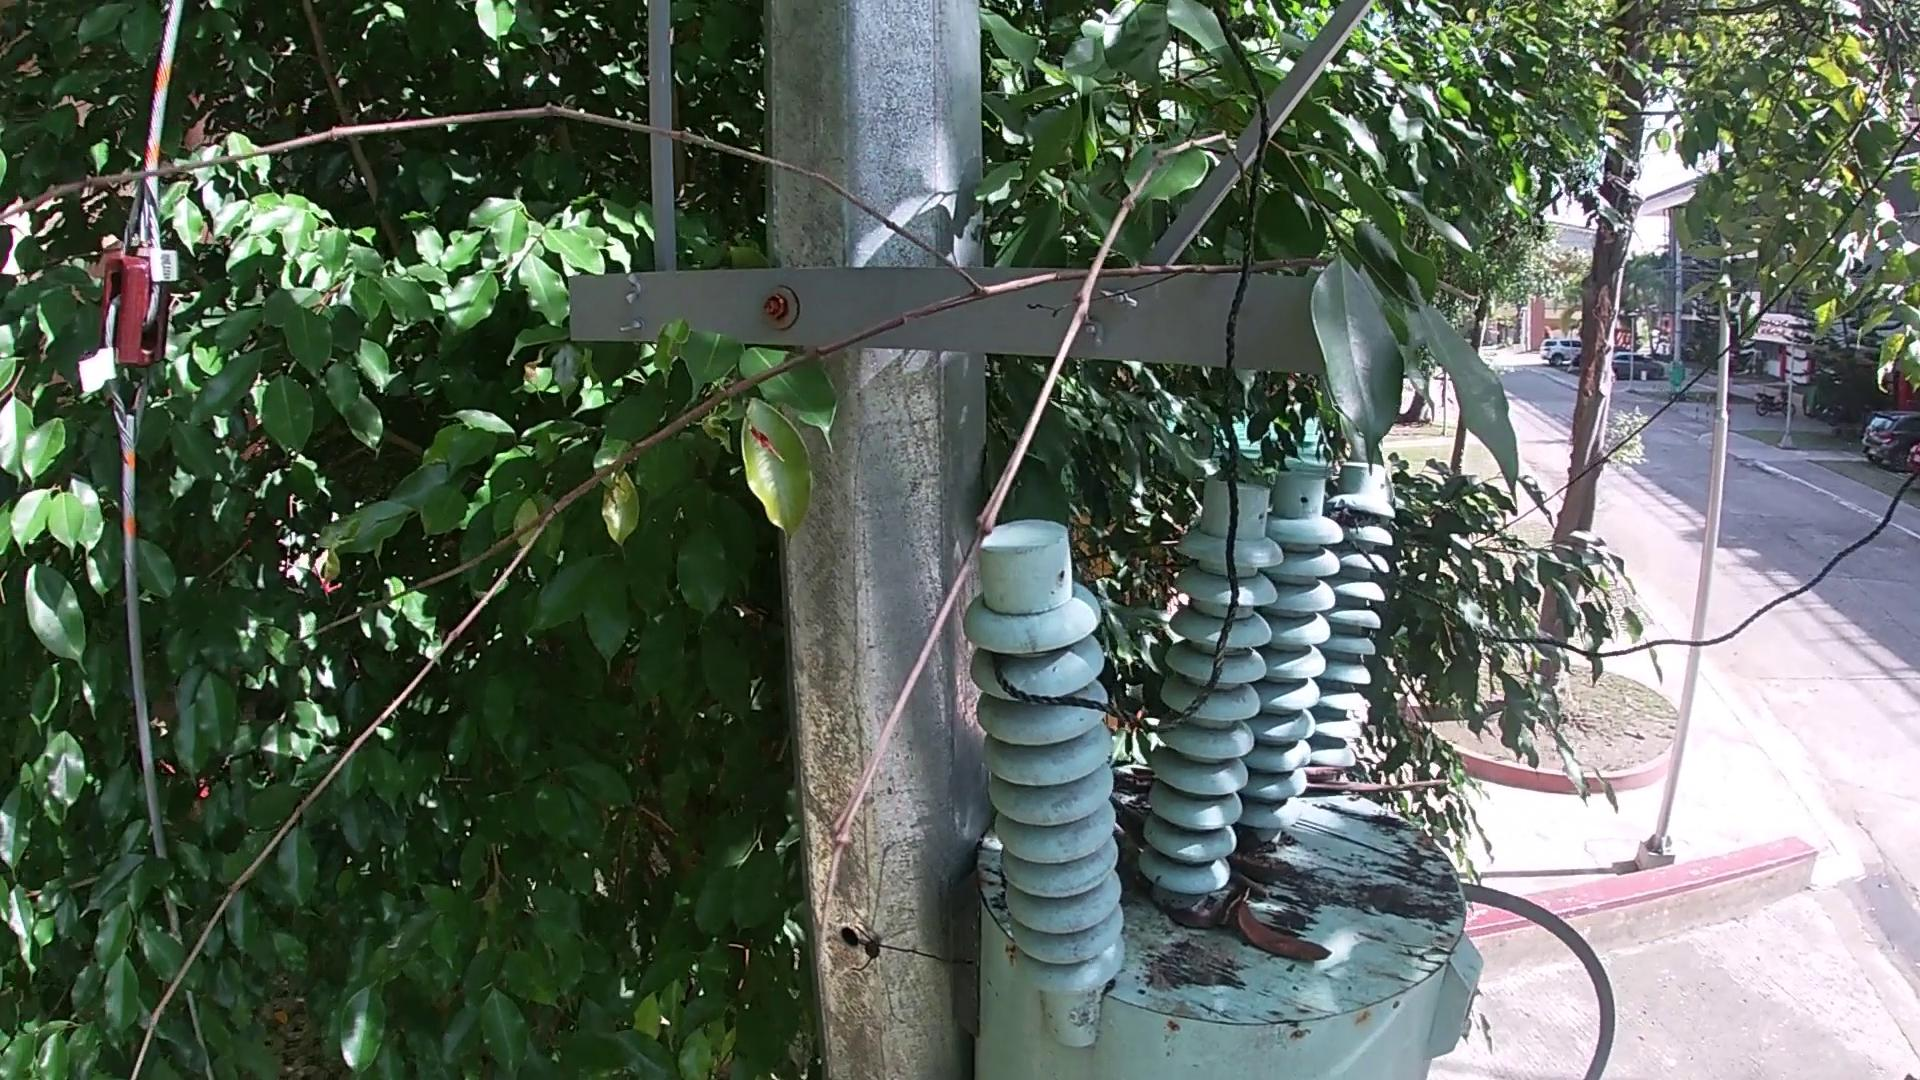leaf: (1171, 909, 1229, 938)
mahogany fruit: (1236, 913, 1348, 968), (1237, 847, 1300, 884)
tree branch: (37, 107, 1356, 1062), (1303, 822, 1439, 872), (1305, 770, 1468, 794), (1113, 796, 1143, 864), (1233, 876, 1280, 907), (1114, 765, 1162, 789)
